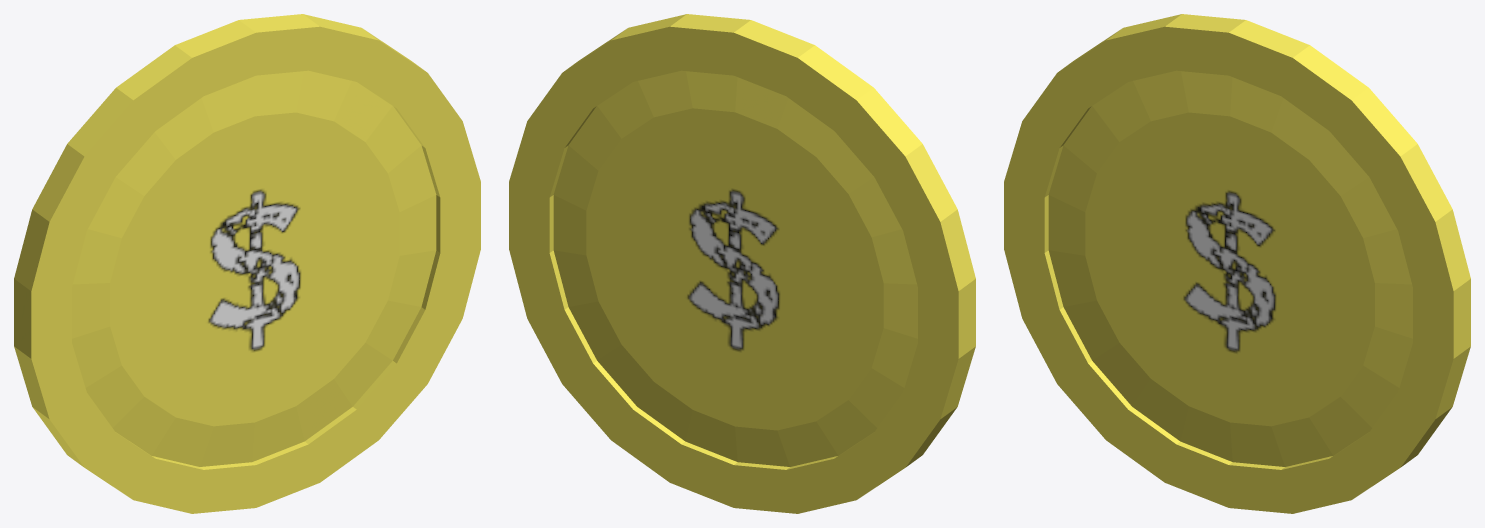
File: coin.obj
3 renders of one model, left to right at view 1: azimuth 30°, elevation 25°; view 2: azimuth 150°, elevation 25°; view 3: azimuth 330°, elevation 25°, orthographic.
Visible parts, largest first — view 1: Cylinder.001; view 2: Cylinder.001; view 3: Cylinder.001.
Part boxes in pixels (box(x1,y1,x2,y2)): Cylinder.001: box(14, 14, 480, 513); Cylinder.001: box(509, 14, 975, 513); Cylinder.001: box(1004, 14, 1470, 513).
Size of the model in its own units: 1.98 by 2 by 0.1324.
Materials: 1 (1 with a texture image).
